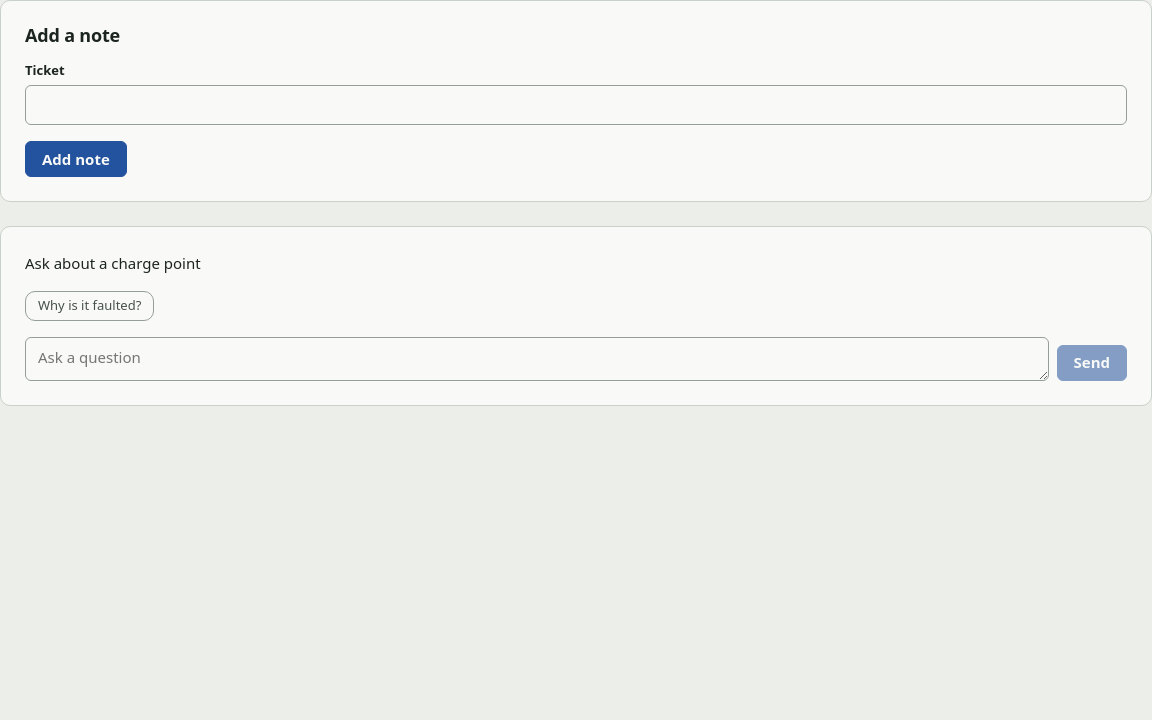
Test: running an app › holds a write until the person confirms, and sends nothing when they cancel
Type "T-1" into the field labelled "Ticket" at x=576, y=105, box [25,85,1127,125]
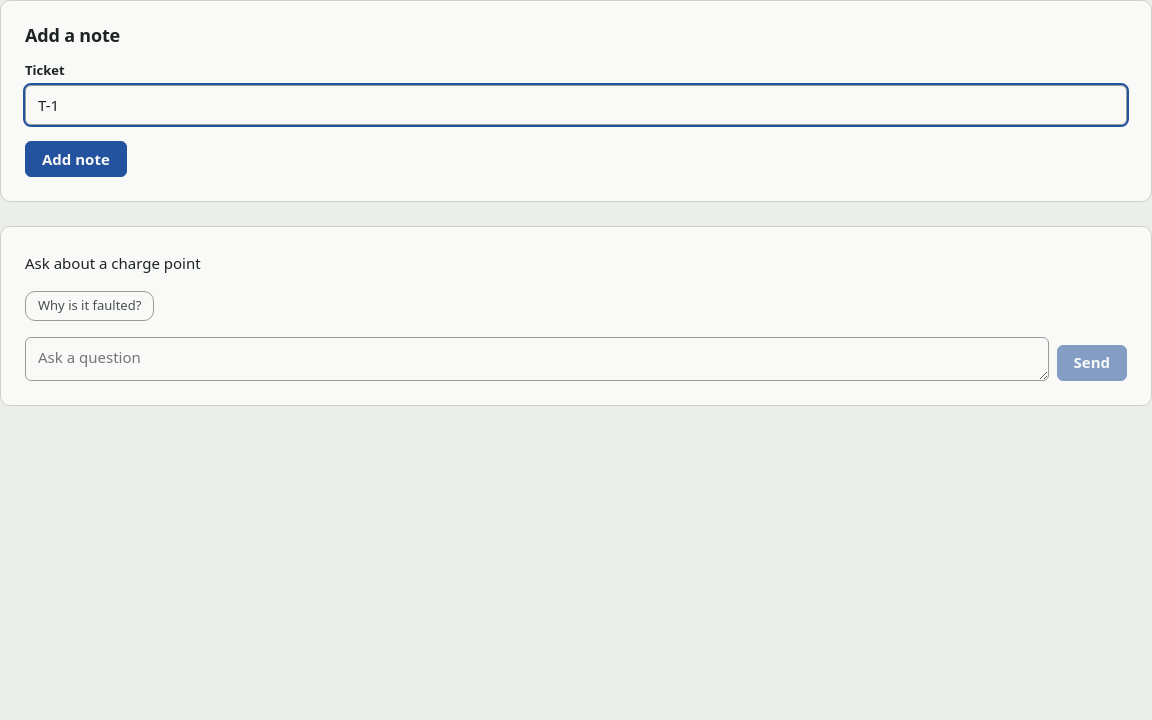
Click the button "Add note" at x=76, y=159, box [25,141,127,177]
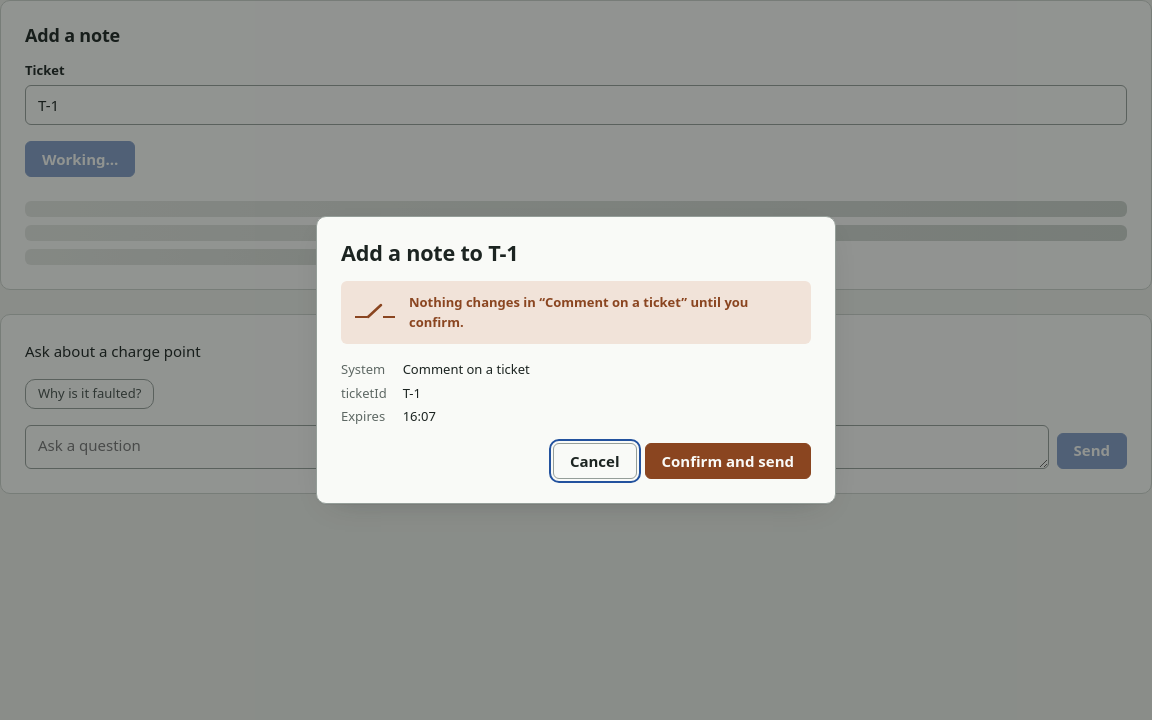
Expected: the dialog shows "Add a note to T-1", [341,238,518,267]
Expected: the dialog shows "until you confirm", [409,293,748,331]
Click the button "Cancel" at x=595, y=461, box [553,443,636,479]
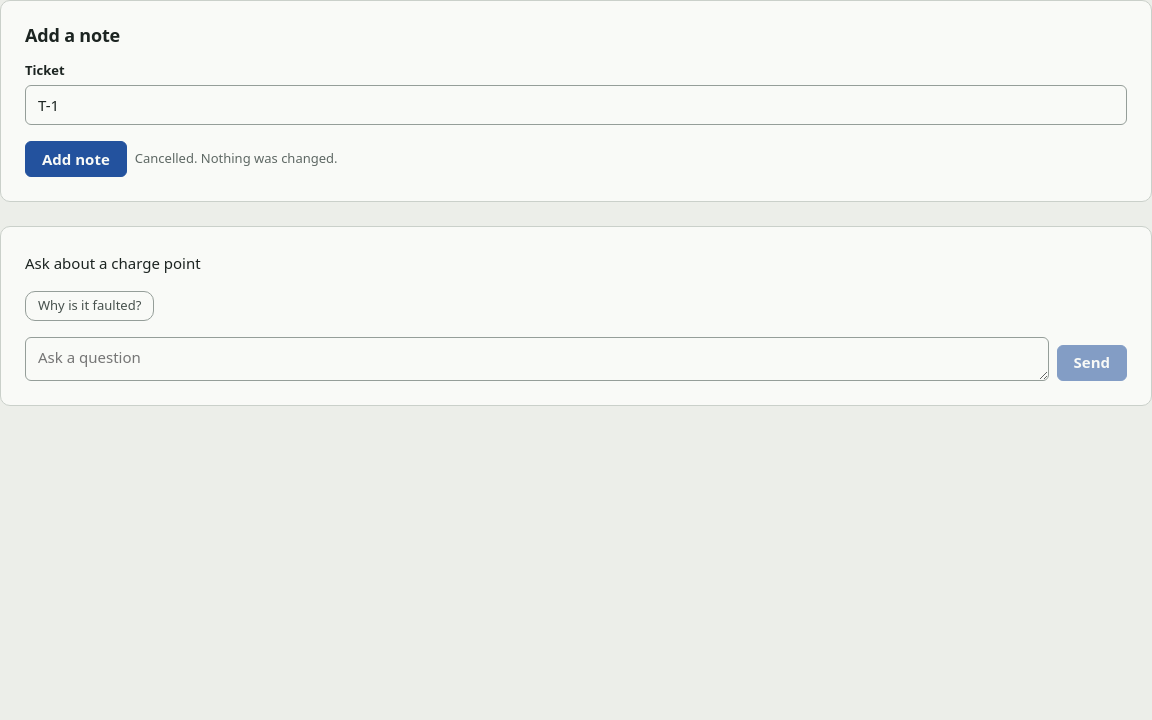
Expected: the dialog is gone
Expected: the text "Cancelled. Nothing was changed." is shown, [135,149,338,169]
